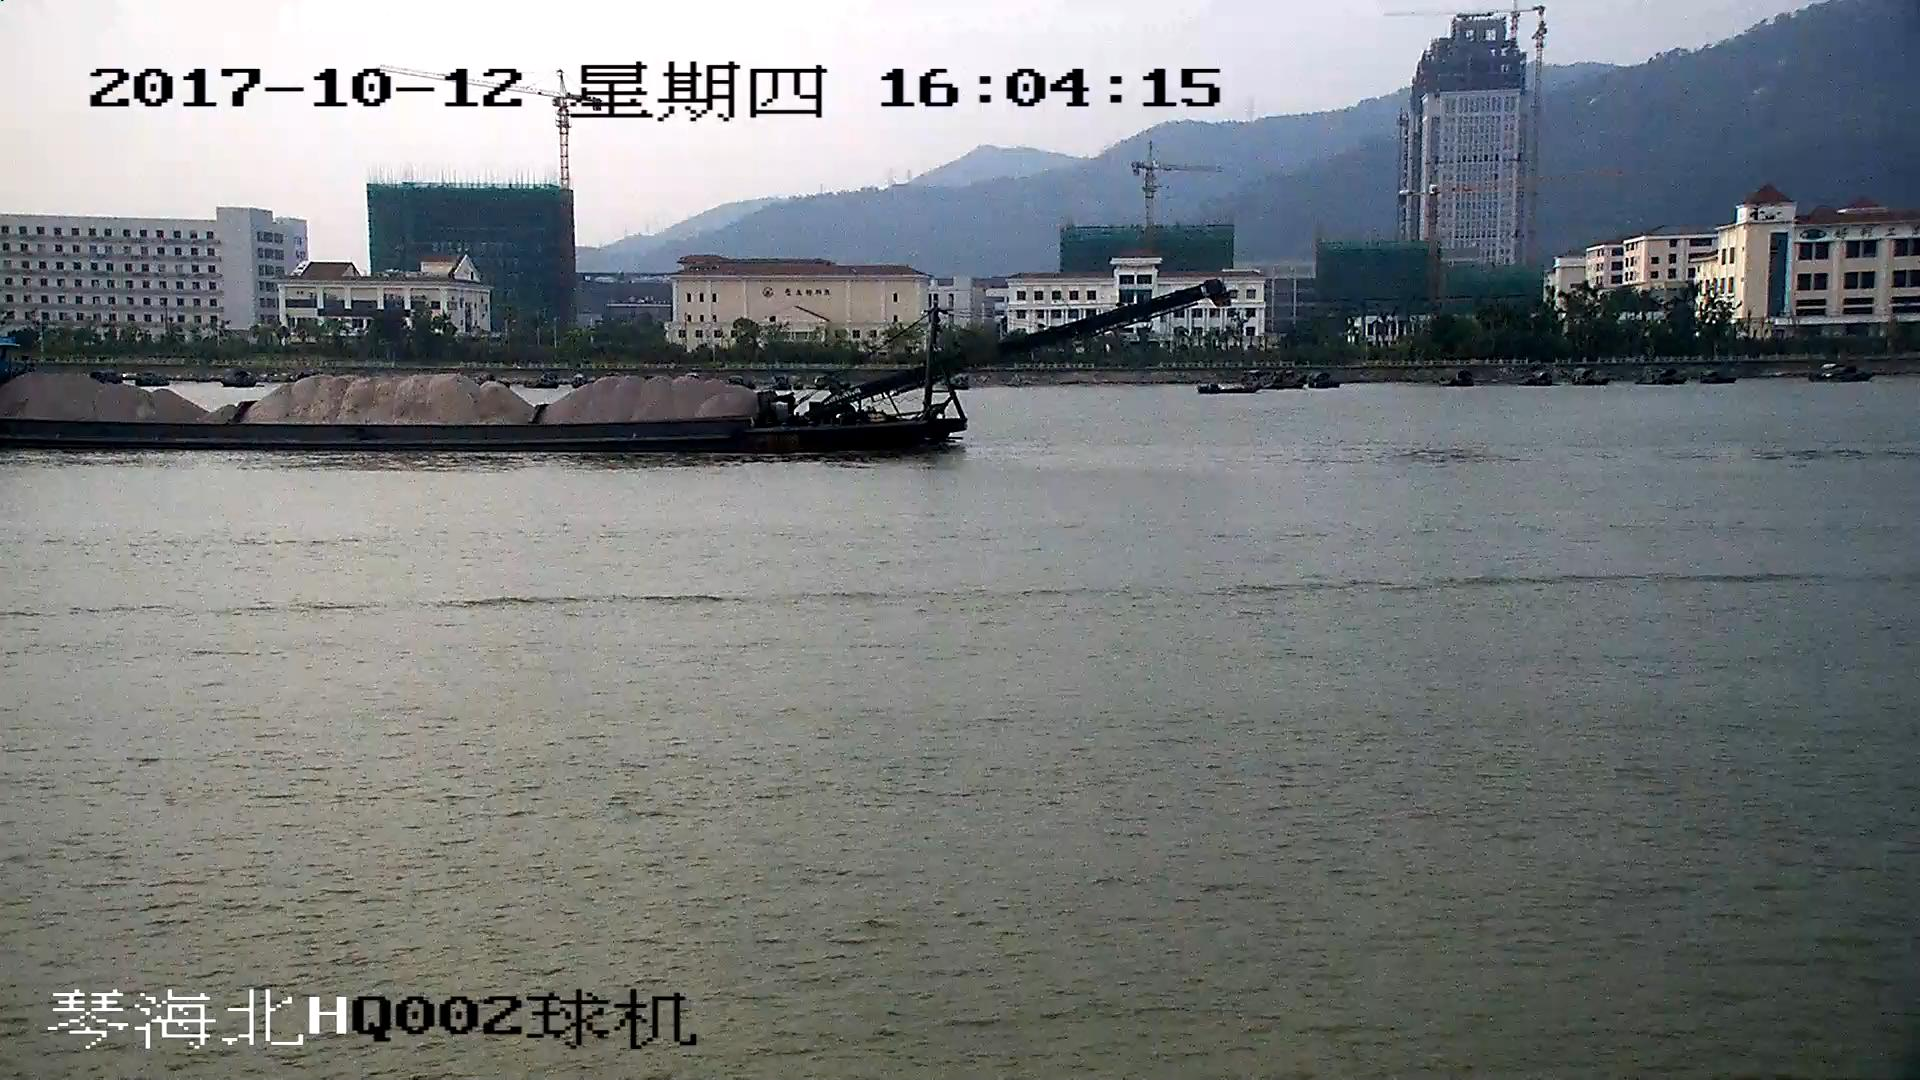ore carrier: (1, 283, 1217, 451)
